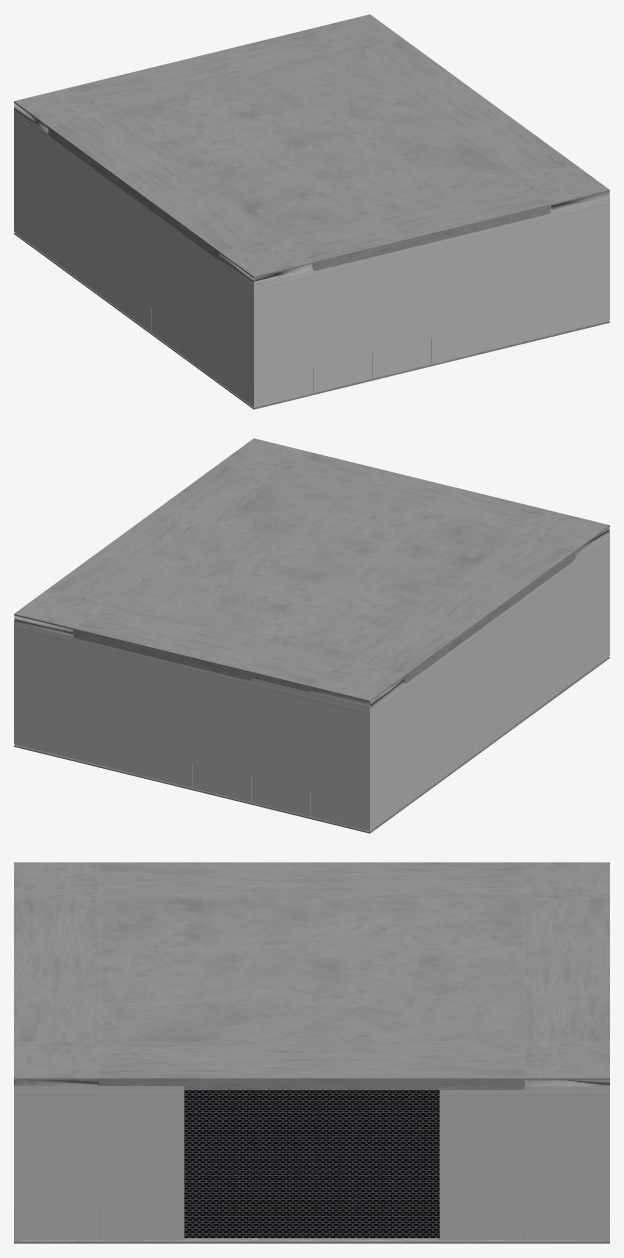
The model's file is Habitacion3Opti.fbx.
The picture shows the model from 3 angles, top to bottom: view 1: azimuth 30°, elevation 25°; view 2: azimuth 150°, elevation 25°; view 3: azimuth 270°, elevation 25°; orthographic projection. The views are drawn at different scales.
Visible parts, largest first — view 1: SM_Ceiling_Center__1_, SM_Wall_AA__11_, SM_Floor_Center__1_; view 2: SM_Ceiling_Center__1_, SM_Wall_AA__11_, SM_Floor_Center__1_; view 3: SM_Ceiling_Center__1_, SM_Wall_AA__11_, SM_Floor_Center__1_.
Part boxes in pixels (<box>): SM_Ceiling_Center__1_: <box>14,14,609,284</box>; SM_Wall_AA__11_: <box>14,107,609,406</box>; SM_Floor_Center__1_: <box>14,232,609,409</box>; SM_Ceiling_Center__1_: <box>14,438,609,708</box>; SM_Wall_AA__11_: <box>14,531,609,830</box>; SM_Floor_Center__1_: <box>14,656,609,833</box>; SM_Ceiling_Center__1_: <box>14,862,609,1089</box>; SM_Wall_AA__11_: <box>14,1085,609,1240</box>; SM_Floor_Center__1_: <box>14,1090,609,1243</box>.
Size of the model in its own units: 120 by 42.8 by 140.
